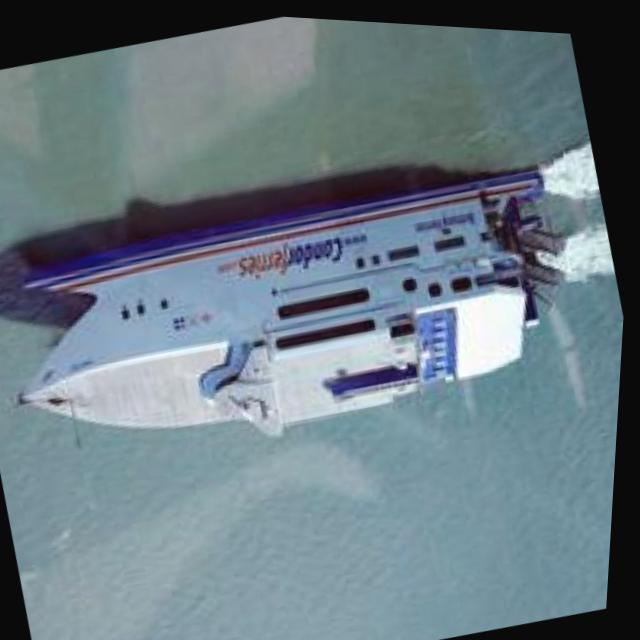ship2: (19, 156, 568, 430)
